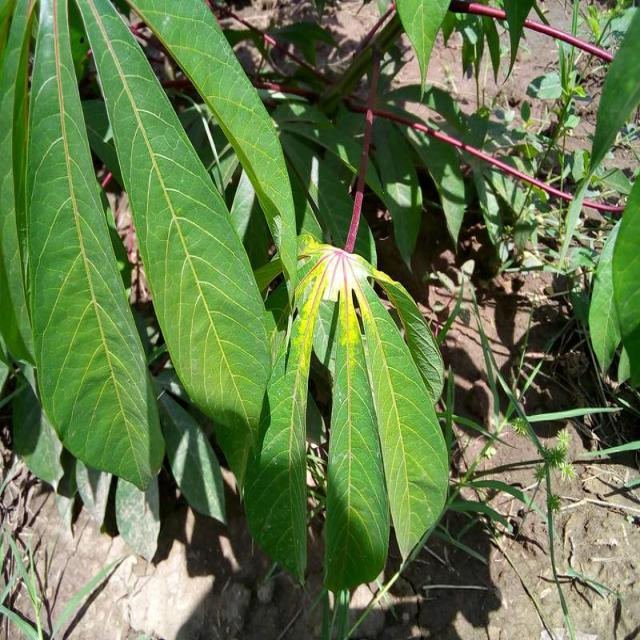cassava leaf: (74, 0, 272, 450), (243, 236, 450, 594), (21, 0, 166, 492), (126, 0, 298, 313)
